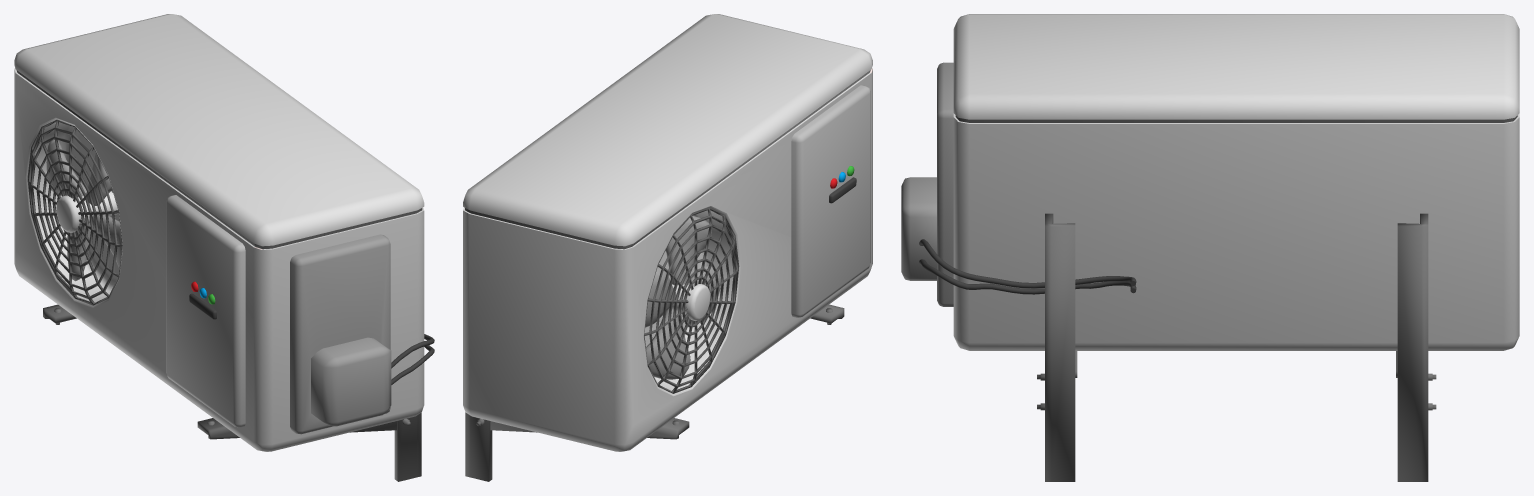
File: Air Conditioner02.fbx
3 views of the same model, side by side, from view 1: azimuth 30°, elevation 25°; view 2: azimuth 150°, elevation 25°; view 3: azimuth 270°, elevation 25° (orthographic). The views are drawn at different scales.
Parts seen in each view (by area): view 1: Air Conditioner02, Cube.003; view 2: Air Conditioner02, Cube.003; view 3: Air Conditioner02.
Part boxes in pixels (x1,y1,x2,y2): Air Conditioner02: [14, 14, 434, 481]; Cube.003: [46, 140, 121, 281]; Air Conditioner02: [463, 14, 872, 481]; Cube.003: [645, 215, 721, 379]; Air Conditioner02: [901, 14, 1519, 481].
Bounding box in the file's own units: 0.3937 × 0.8739 × 0.567.
